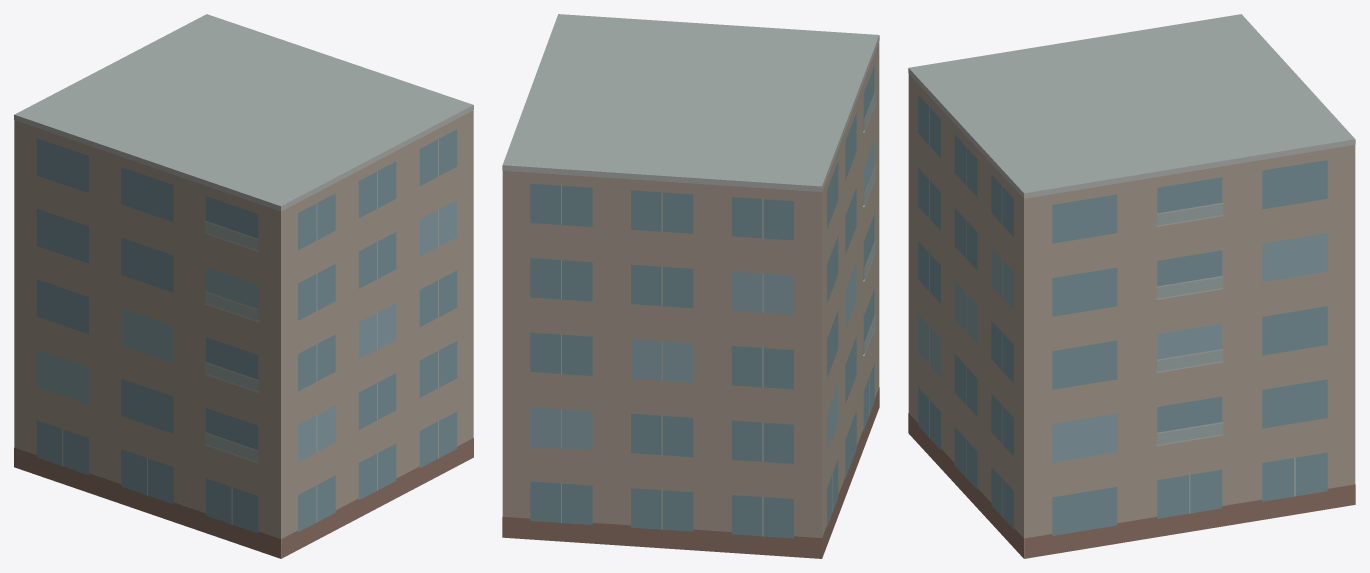
Rendered from survey-upis-32854449.glb.
The picture shows the model from 3 angles, left to right: view 1: azimuth 30°, elevation 25°; view 2: azimuth 150°, elevation 25°; view 3: azimuth 270°, elevation 25°; orthographic projection. The views are drawn at different scales.
Visible parts, largest first — view 1: survey-upis-32854449.tmp; view 2: survey-upis-32854449.tmp; view 3: survey-upis-32854449.tmp.
Part boxes in pixels (x1,y1,x2,y2): survey-upis-32854449.tmp: [14, 14, 473, 558]; survey-upis-32854449.tmp: [502, 14, 879, 558]; survey-upis-32854449.tmp: [908, 14, 1355, 558].
Size of the model in its own units: 17.27 by 16.4 by 18.19.
